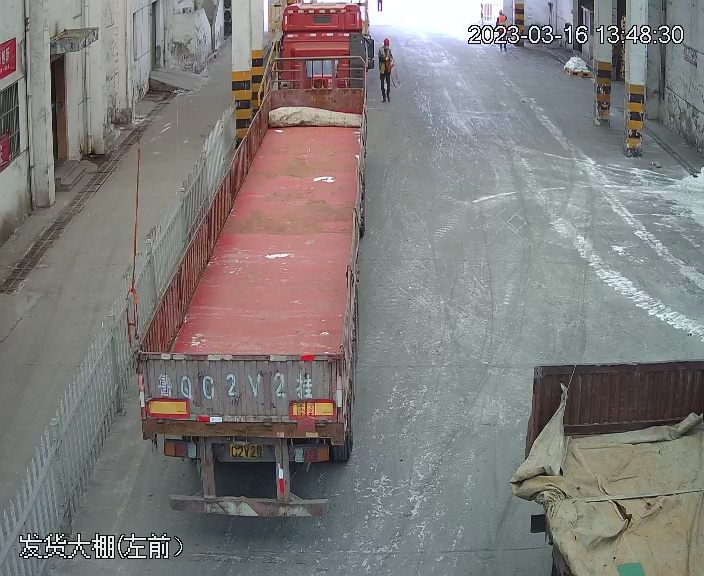head: (379, 37, 392, 56)
helmet: (383, 38, 390, 46)
people: (378, 36, 394, 103)
truck: (108, 5, 376, 525)
